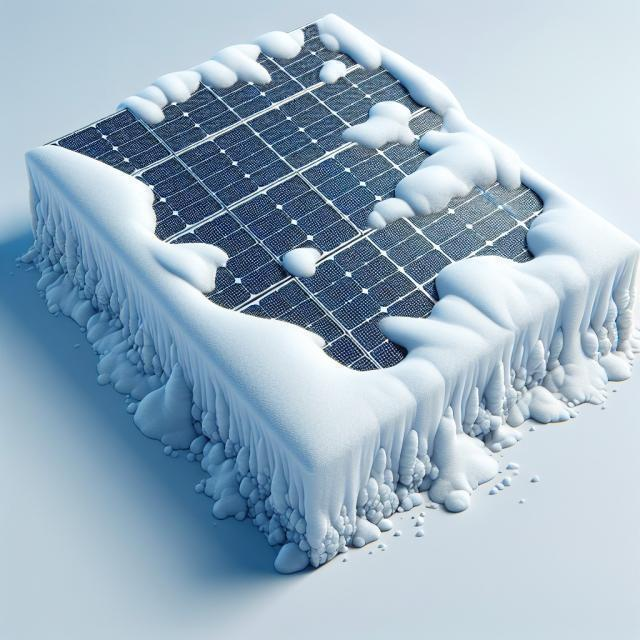Anomaly Solar Panel: (26, 0, 638, 499)
Snow: (26, 0, 639, 499), (122, 25, 315, 130), (338, 97, 414, 150), (280, 245, 322, 279), (317, 56, 349, 89)
